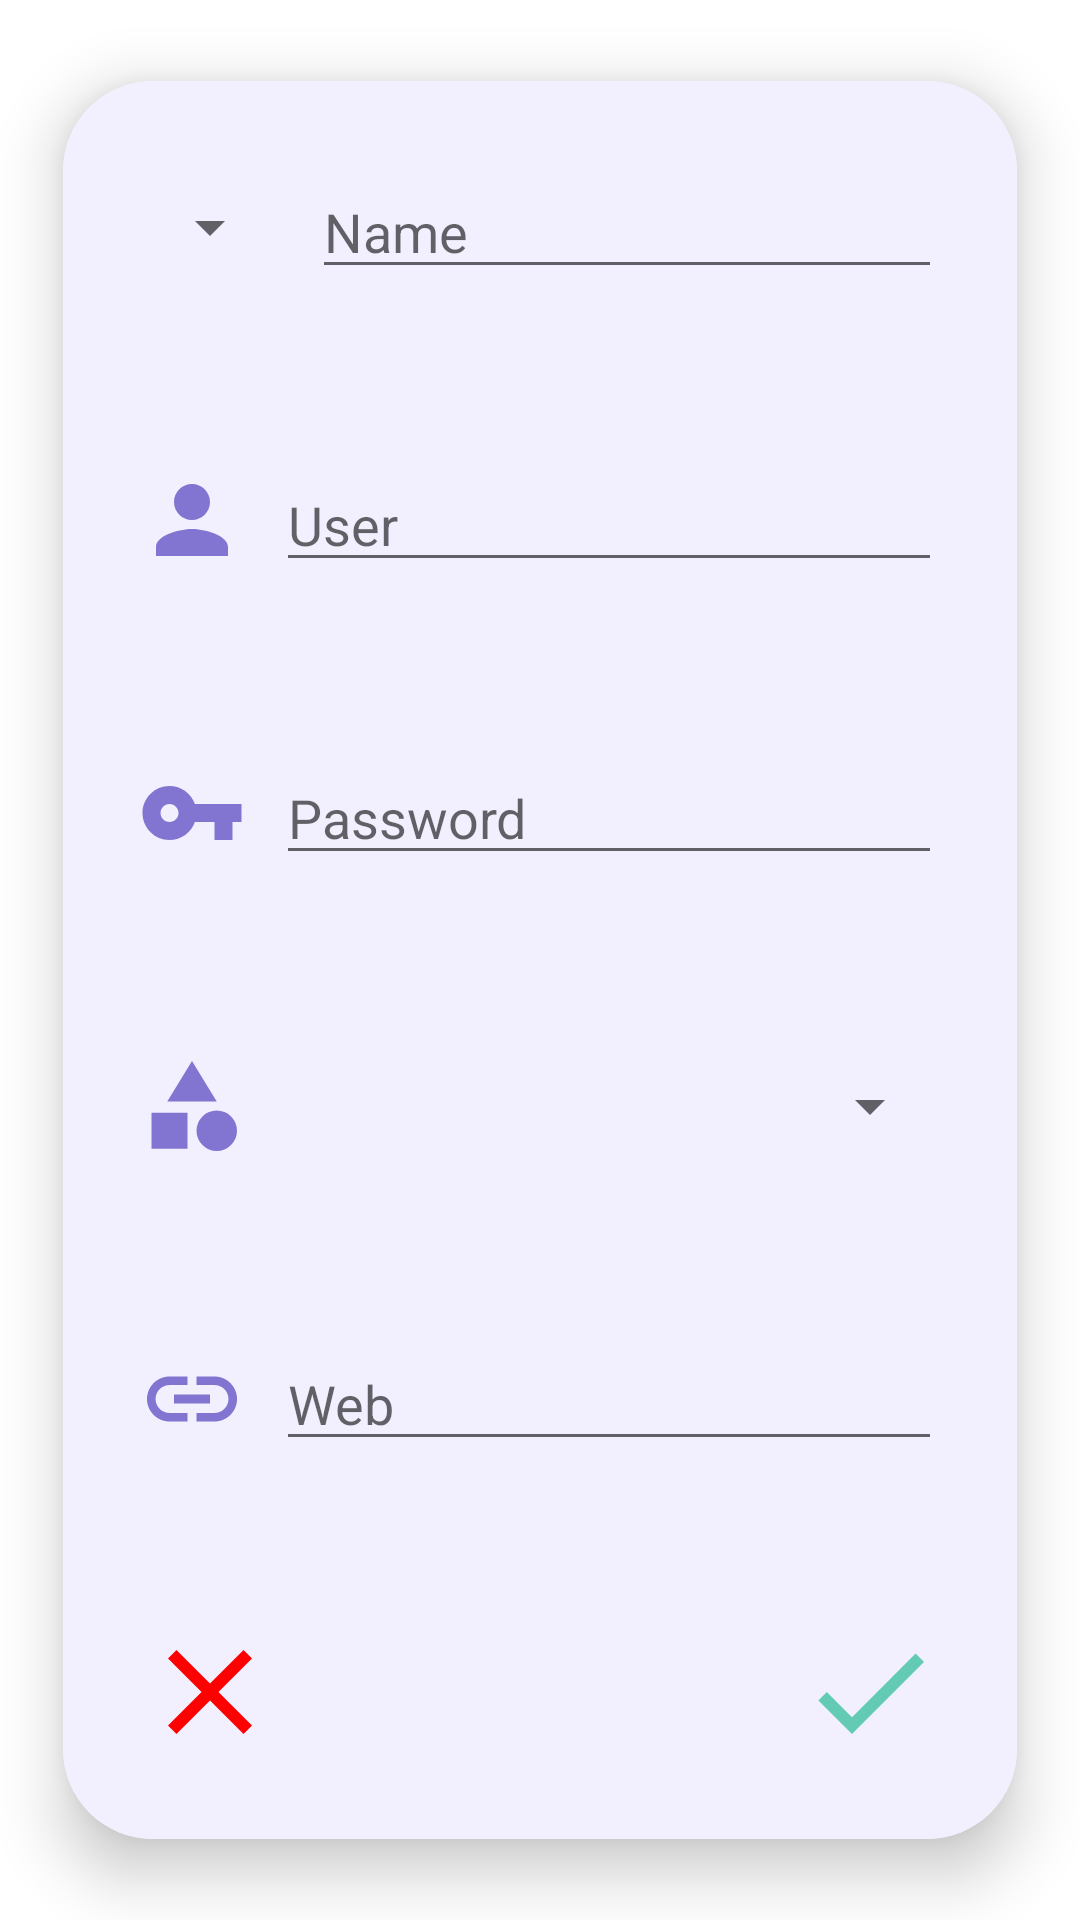

Icons on this 1080 × 1920 Android screen, each with its box as [x1,y1,x2,y2]:
account: [156,484,228,556]
category: [151,1061,237,1151]
done: [818,1653,924,1734]
pass key: [142,786,242,840]
url: [147,1376,237,1422]
